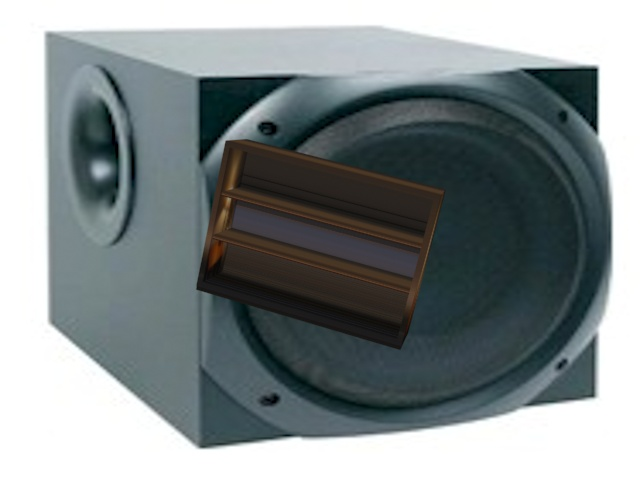bookcase: (193, 129, 449, 352)
